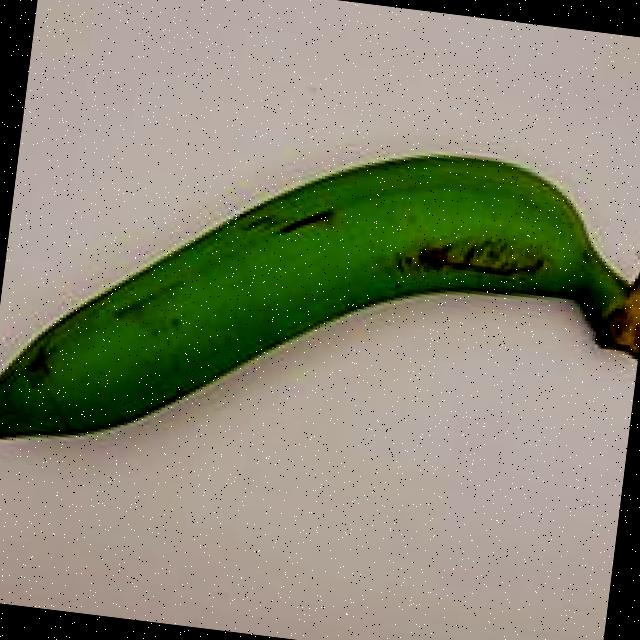Raw: (0, 65, 640, 540)
